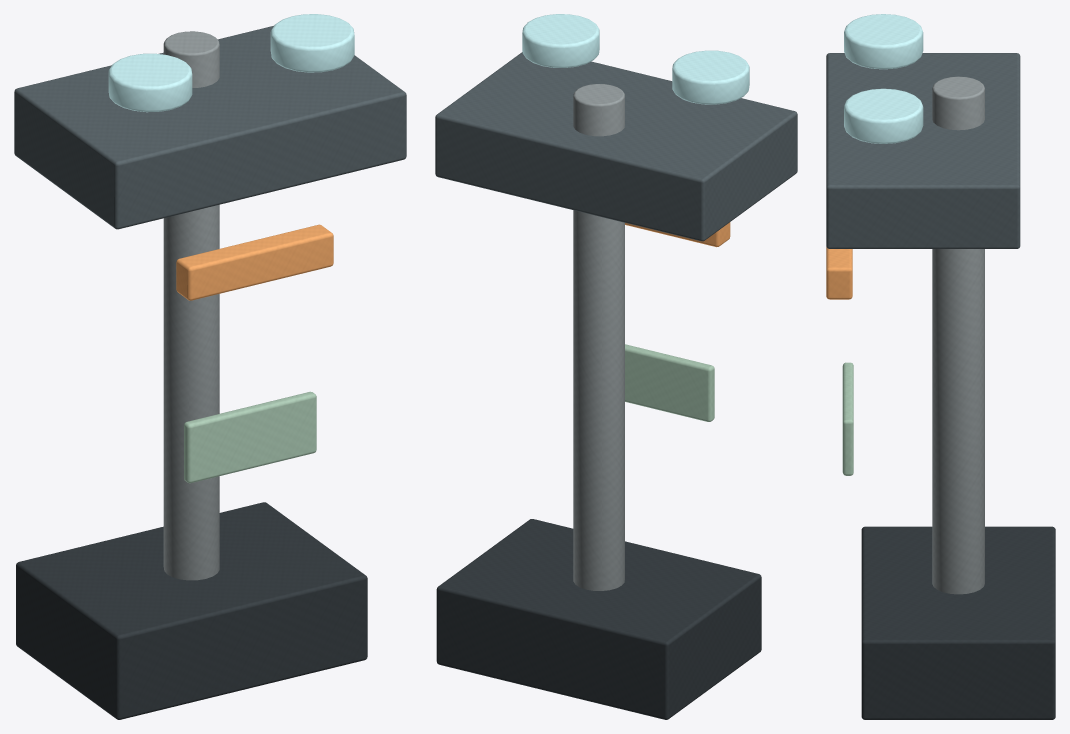
The model's file is EyewashStation.glb.
3 renders of one model, left to right at view 1: azimuth 30°, elevation 25°; view 2: azimuth 150°, elevation 25°; view 3: azimuth 270°, elevation 25°, orthographic. The views are drawn at different scales.
Parts seen in each view (by area): view 1: EyewashStation_Mesh; view 2: EyewashStation_Mesh; view 3: EyewashStation_Mesh.
Part boxes in pixels (x1=…): EyewashStation_Mesh: x1=14, y1=14, x2=406, y2=719; EyewashStation_Mesh: x1=435, y1=14, x2=797, y2=719; EyewashStation_Mesh: x1=826, y1=14, x2=1055, y2=719.
Bounding box in the file's own units: 0.72 × 1.49 × 0.52.
Materials: 6 (6 with a texture image).
